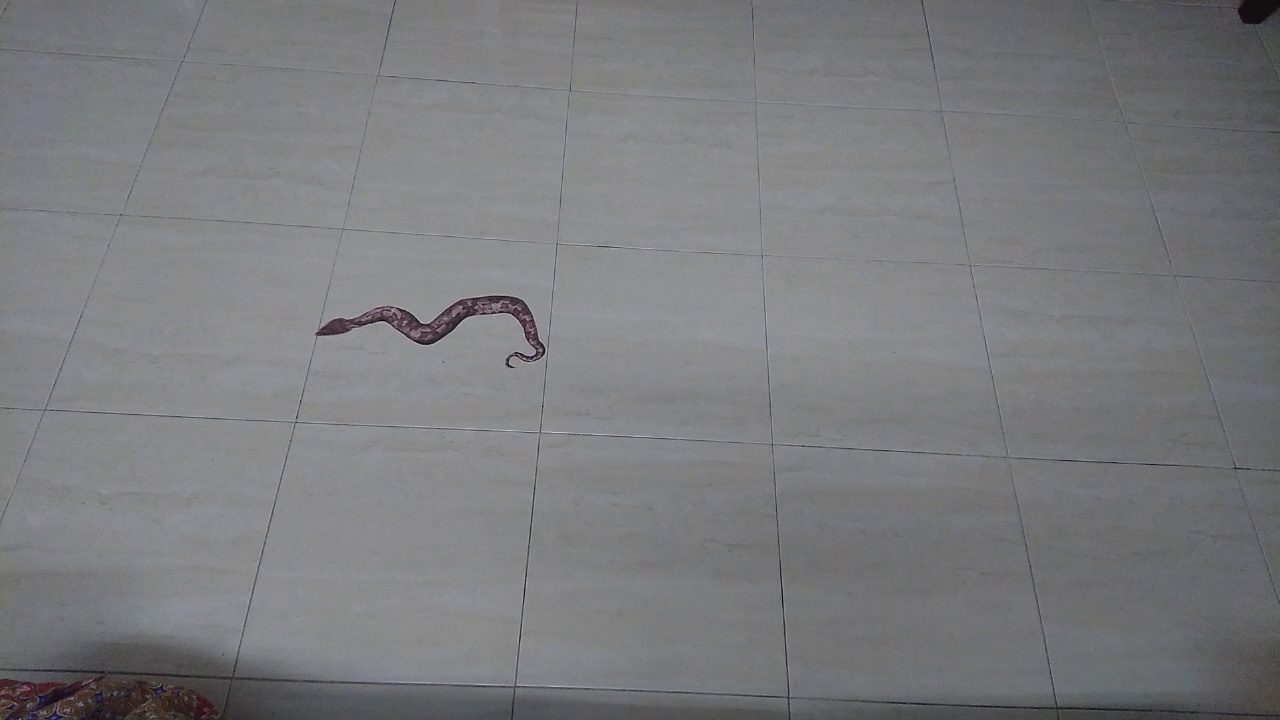snake: (298, 270, 561, 383)
